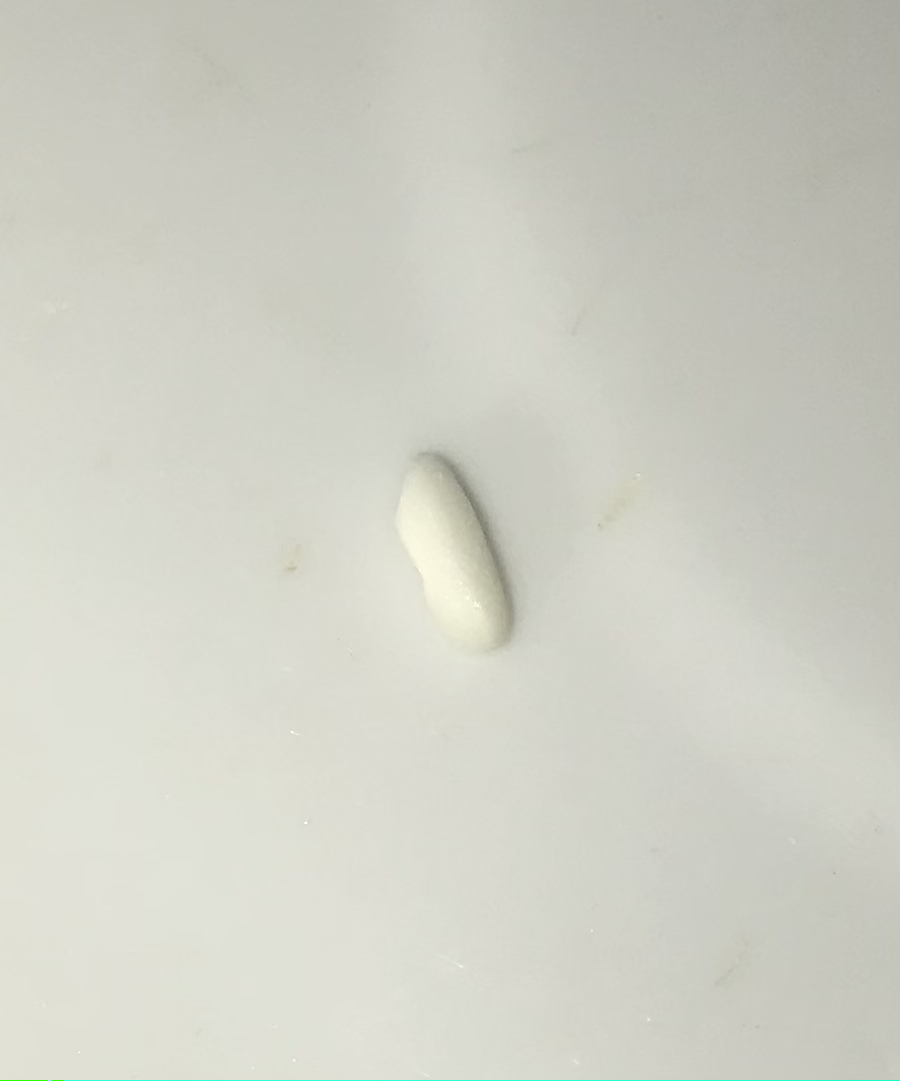Gao Nep Sap: (384, 435, 526, 660)
